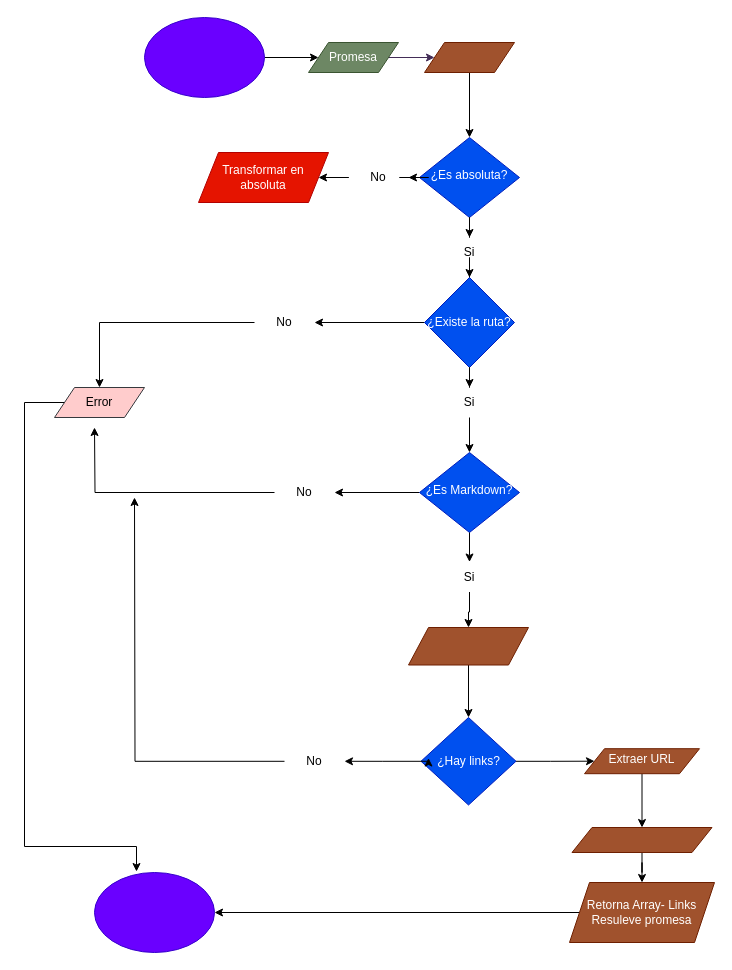
Image size: 732x970. Some labels were removed from this diagram. Here are the shapes that lost their labels. From the top down, the centre of each, then its label:
At (x=204, y=57): "Inicio (promesa)".
At (x=469, y=57): "Ruta".
At (x=468, y=645): "Leer archivo".
At (x=641, y=839): "Arreglo".
At (x=154, y=912): "Final".
